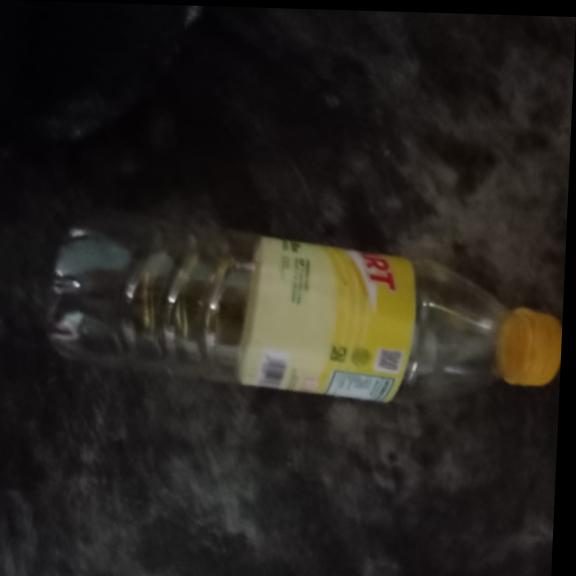Plastik: (41, 221, 566, 406)
